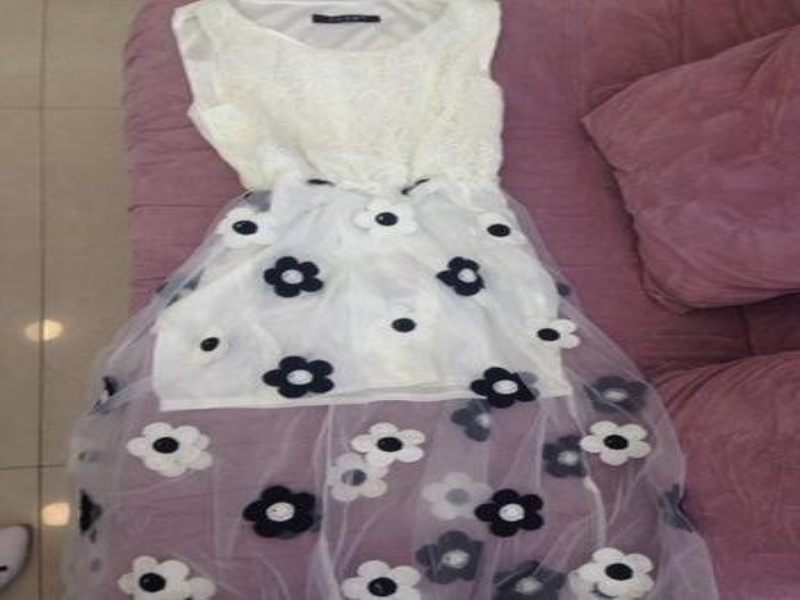vest_dress: (52, 1, 720, 599)
